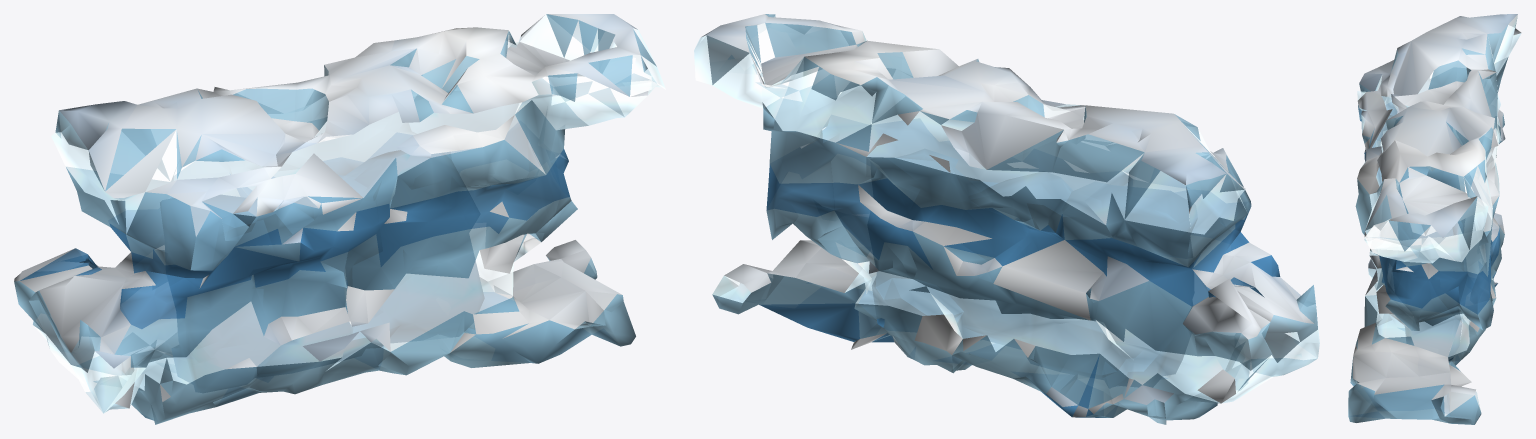
The model's file is frost_ice_cliff_c_lod1.glb.
3 views of the same model, side by side, from view 1: azimuth 30°, elevation 25°; view 2: azimuth 150°, elevation 25°; view 3: azimuth 270°, elevation 25° (orthographic). The views are drawn at different scales.
Visible parts, largest first — view 1: frost_ice_cliff_c.001; view 2: frost_ice_cliff_c.001; view 3: frost_ice_cliff_c.001.
Part boxes in pixels (x1,y1,x2,y2): frost_ice_cliff_c.001: (14, 14, 665, 424); frost_ice_cliff_c.001: (694, 14, 1319, 424); frost_ice_cliff_c.001: (1348, 14, 1521, 424).
Size of the model in its own units: 19.37 by 9.14 by 6.05.
